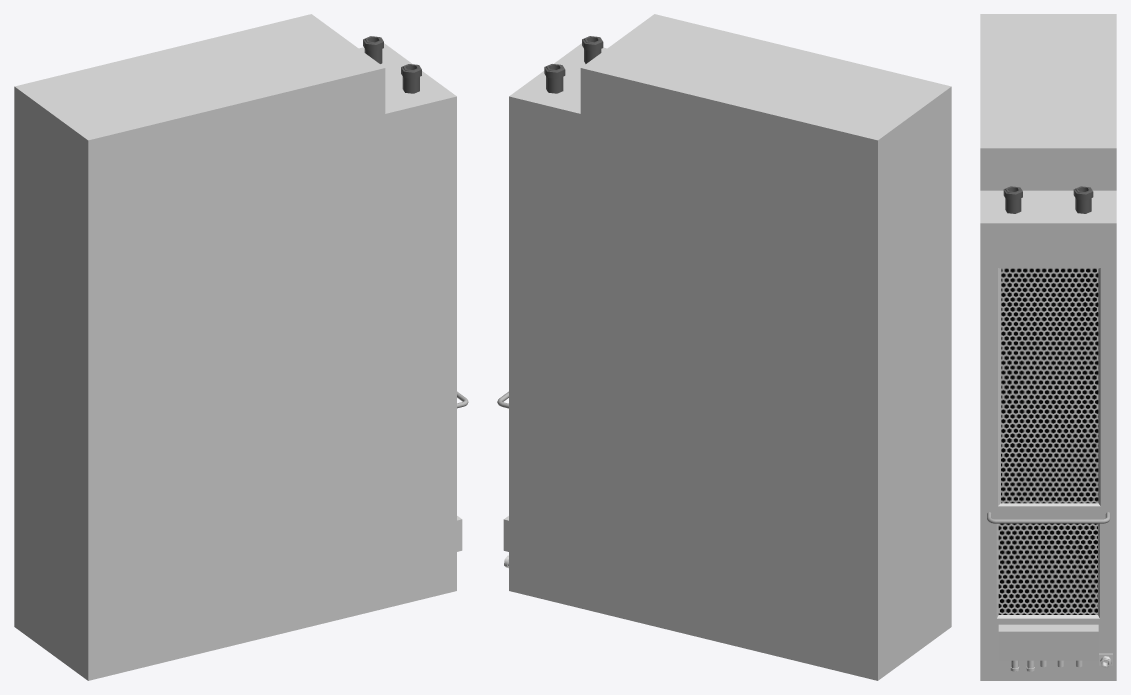
File: Liquid.glb
3 views of the same model, side by side, from view 1: azimuth 30°, elevation 25°; view 2: azimuth 150°, elevation 25°; view 3: azimuth 270°, elevation 25° (orthographic). The views are drawn at different scales.
Parts seen in each view (by area): view 1: Liquid; view 2: Liquid; view 3: Liquid.
Part boxes in pixels (<box>): Liquid: <box>14,14,468,680</box>; Liquid: <box>497,14,951,680</box>; Liquid: <box>980,14,1116,680</box>.
Size of the model in its own units: 1.06 by 1.41 by 0.3492.
Materials: 1 (1 with a texture image).
